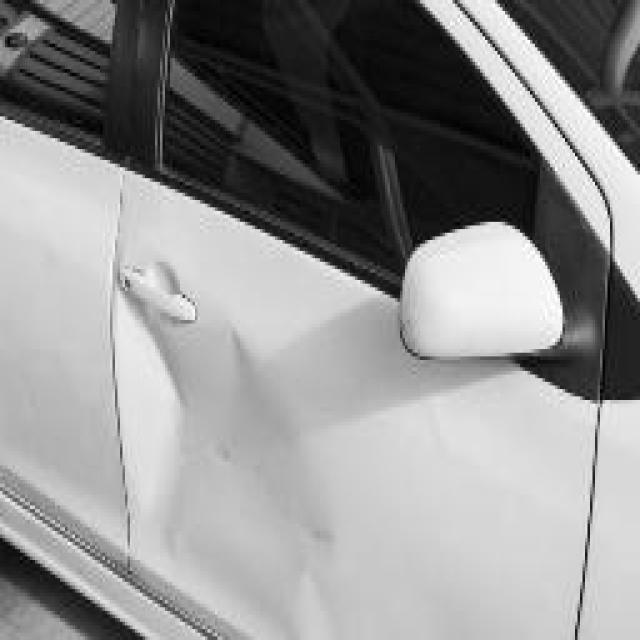Door: (138, 258, 380, 640)
